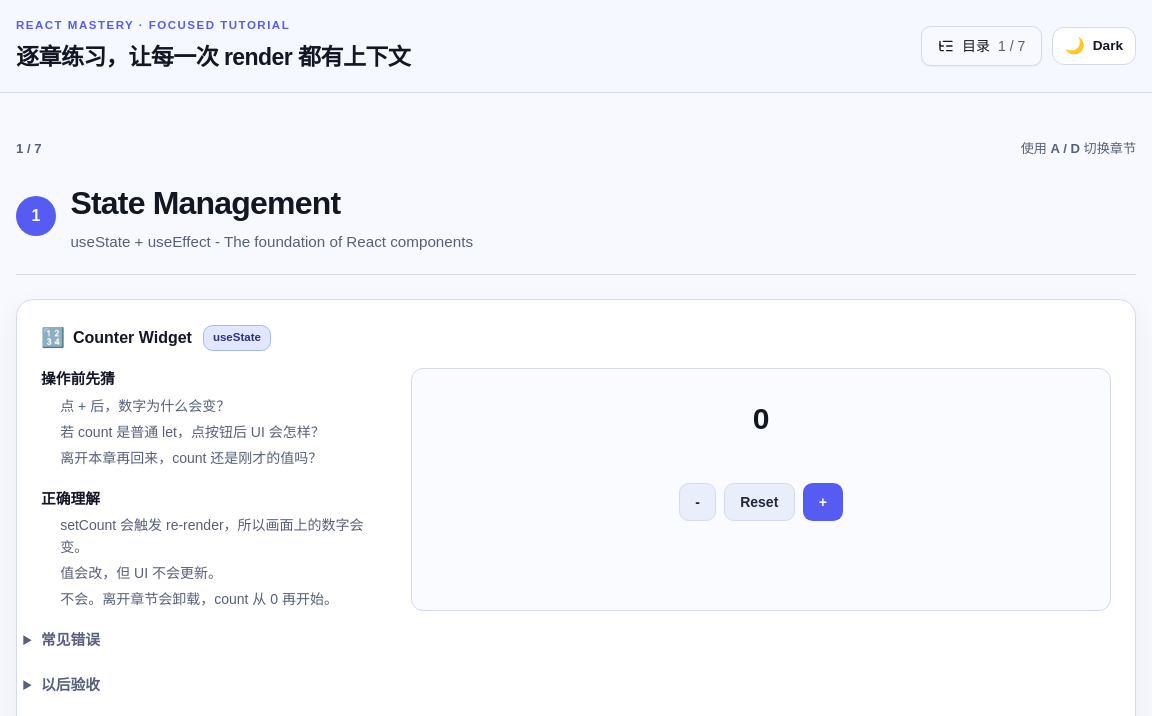
Scenario: React tutorial workspace › resets temporary example state after leaving and returning to a chapter
Click the button "+".
click(823, 502)  # box [802,483,843,521]
(page scrolled)
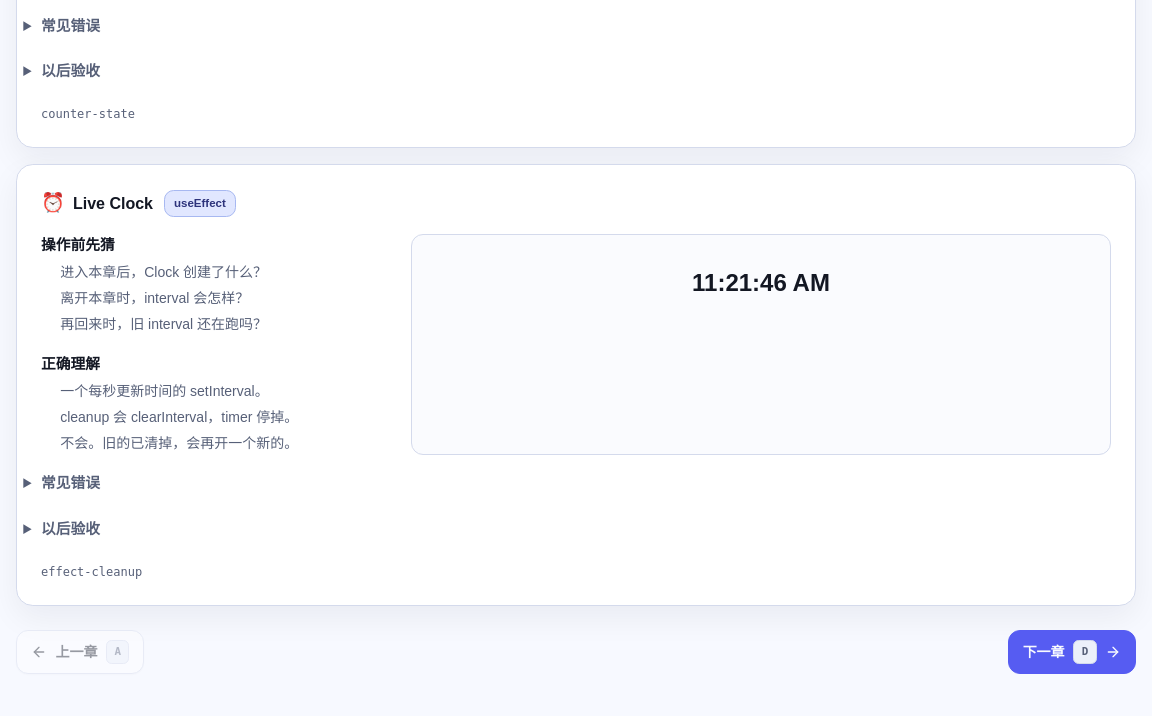
Click the button with aria-label "next chapter".
click(1072, 652)  # box [1008,630,1136,674]
(page scrolled)
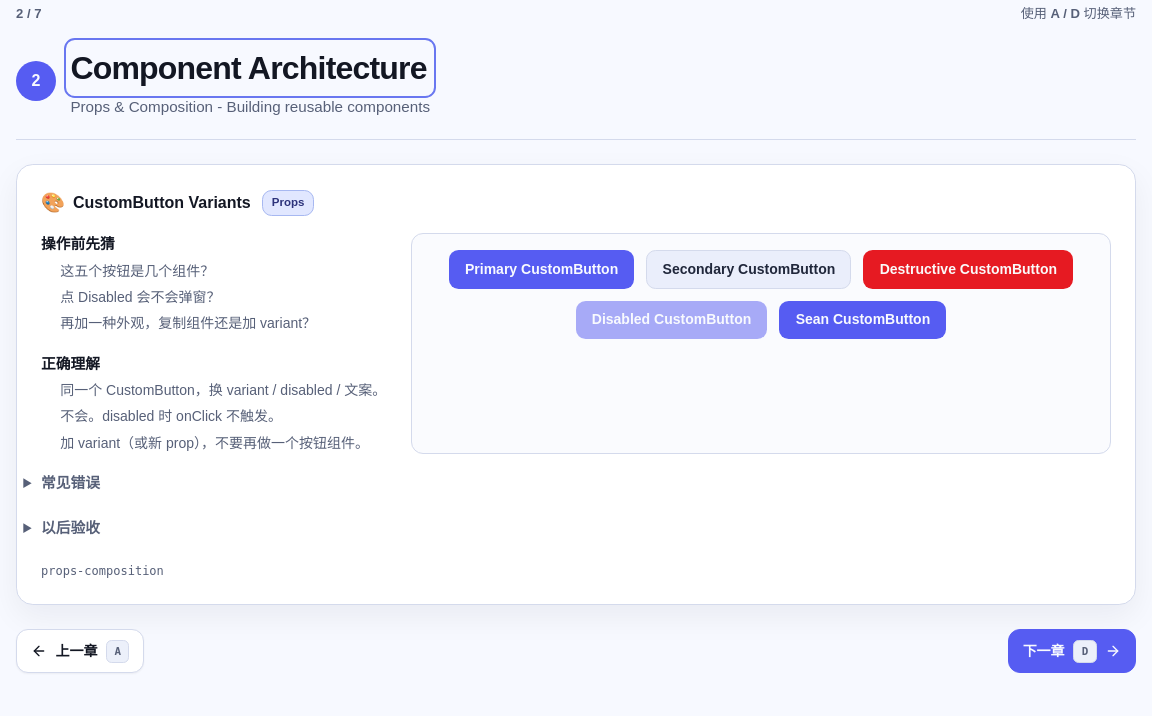
Click the button with aria-label "previous chapter".
click(80, 651)  # box [16,629,144,673]
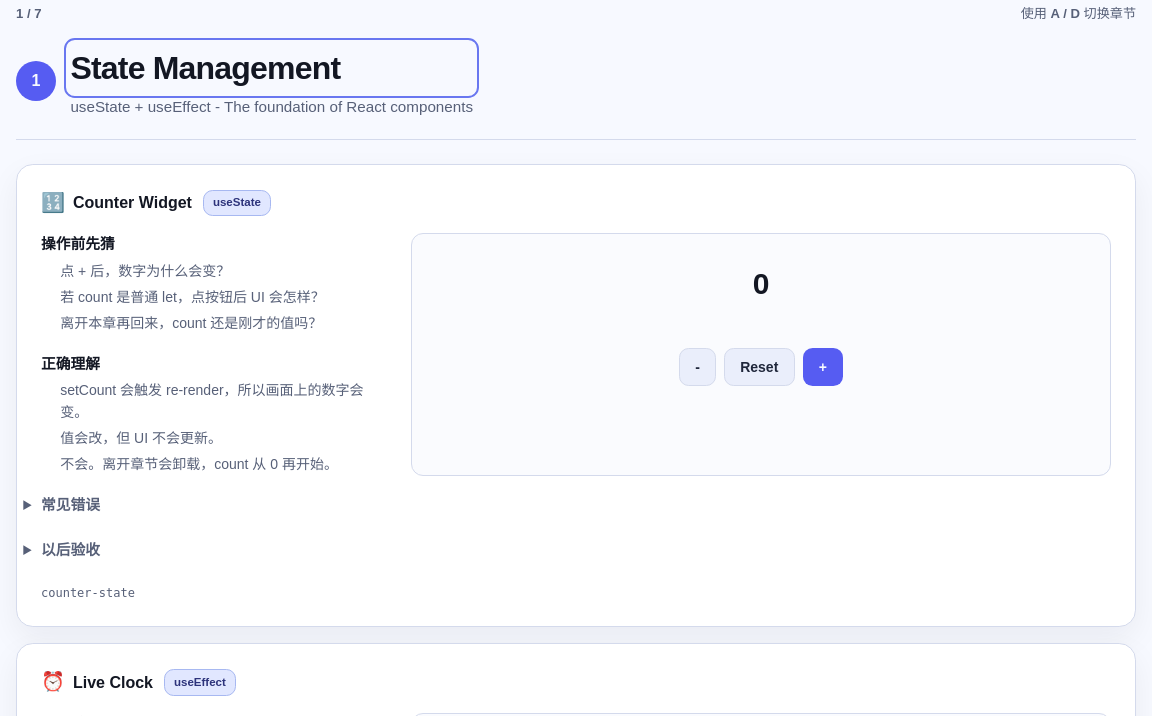
Check: the text "0" is shown, box [753,267,769,300]
